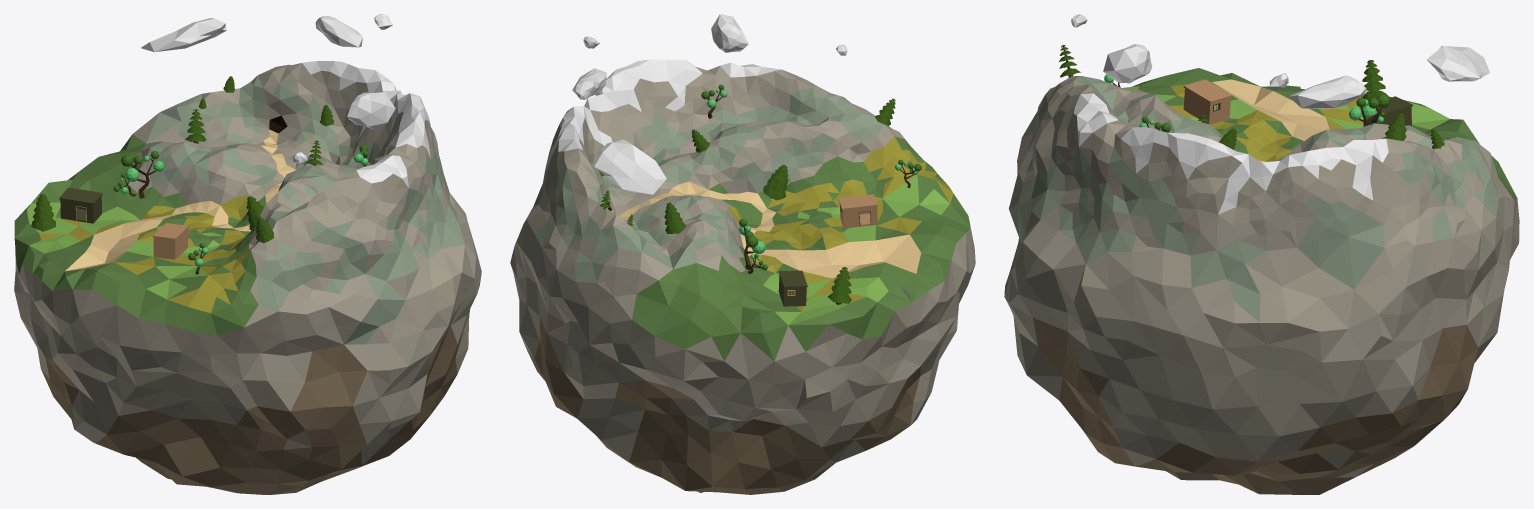
The model's file is Island.fbx.
3 views of the same model, side by side, from view 1: azimuth 30°, elevation 25°; view 2: azimuth 150°, elevation 25°; view 3: azimuth 270°, elevation 25° (orthographic). The views are drawn at different scales.
Visible parts, largest first — view 1: Land, Cloud.002, Cloud.003, House.001, House, Cloud, Tree, Pine.006; view 2: Land, Cloud.002, House, Cloud.003, House.001, Cloud, Pine.004, Pine.006, Tree; view 3: Land, Cloud, Cloud.002, House, Cloud.003, Tree, House.001, Pine.006.
Boxes of the visible parts, bbox=[...] form: Land: bbox=[14, 61, 481, 494]; Cloud.002: bbox=[141, 18, 226, 52]; Cloud.003: bbox=[347, 92, 395, 130]; House.001: bbox=[59, 187, 102, 223]; House: bbox=[152, 223, 188, 259]; Cloud: bbox=[315, 16, 362, 47]; Tree: bbox=[121, 151, 164, 198]; Pine.006: bbox=[31, 194, 55, 231]; Land: bbox=[510, 59, 975, 494]; Cloud.002: bbox=[594, 139, 666, 194]; House: bbox=[838, 194, 877, 228]; Cloud.003: bbox=[711, 14, 748, 52]; House.001: bbox=[778, 270, 807, 306]; Cloud: bbox=[572, 68, 606, 99]; Pine.004: bbox=[763, 165, 788, 200]; Pine.006: bbox=[827, 267, 851, 304]; Tree: bbox=[739, 219, 765, 270]; Land: bbox=[1004, 68, 1519, 494]; Cloud: bbox=[1289, 75, 1366, 109]; Cloud.002: bbox=[1427, 45, 1489, 81]; House: bbox=[1183, 79, 1232, 124]; Cloud.003: bbox=[1103, 44, 1152, 83]; Tree: bbox=[1349, 94, 1389, 126]; House.001: bbox=[1362, 96, 1412, 126]; Pine.006: bbox=[1362, 60, 1389, 101].
Size of the model in its own units: 1944 by 1934 by 1871.
